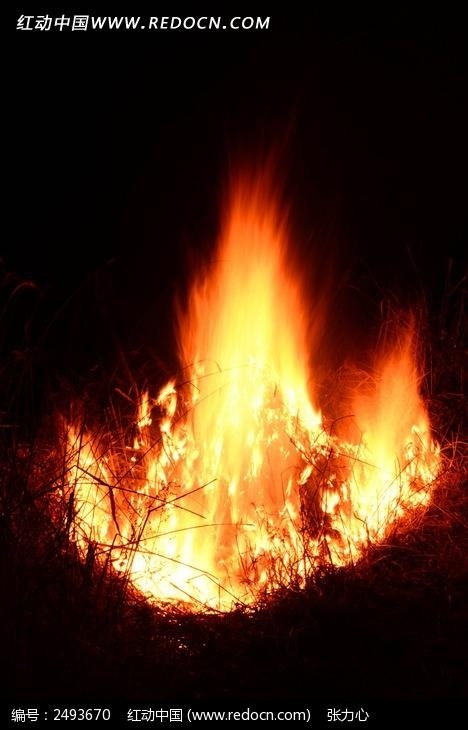fire: (49, 150, 450, 614)
